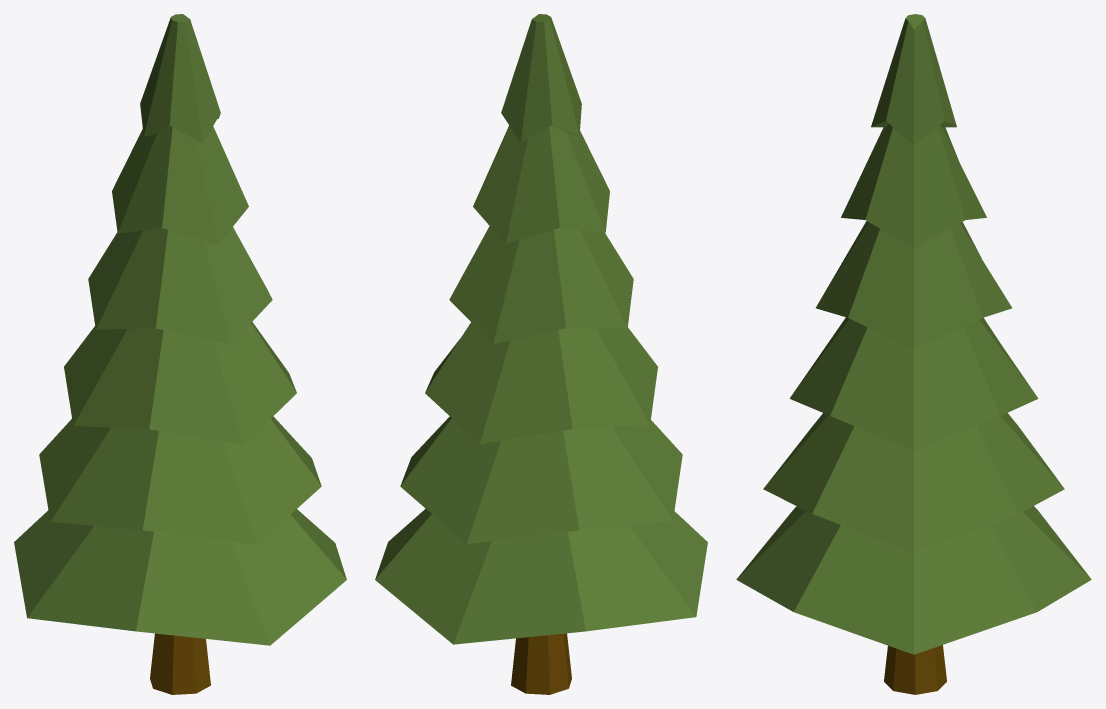
File: Tree.fbx
3 renders of one model, left to right at view 1: azimuth 30°, elevation 25°; view 2: azimuth 150°, elevation 25°; view 3: azimuth 270°, elevation 25°, orthographic.
Visible parts, largest first — view 1: Top, Trunk; view 2: Top, Trunk; view 3: Top, Trunk.
Part boxes in pixels (x1=…): Top: x1=14, y1=14, x2=346, y2=645; Trunk: x1=150, y1=633, x2=210, y2=694; Top: x1=375, y1=14, x2=707, y2=644; Trunk: x1=511, y1=633, x2=571, y2=694; Top: x1=736, y1=14, x2=1091, y2=654; Trunk: x1=884, y1=645, x2=946, y2=694.
Size of the model in its own units: 368 by 758 by 368.
